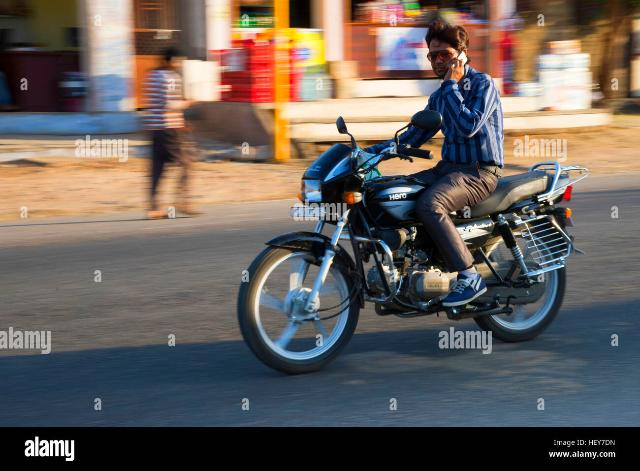motor: (239, 111, 581, 376)
non-helm: (427, 23, 469, 79)
